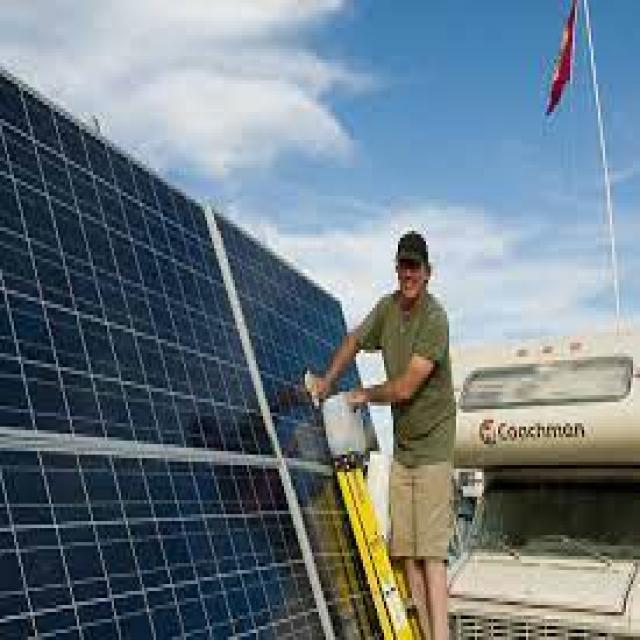dust-solar-panel: (217, 216, 377, 637)
